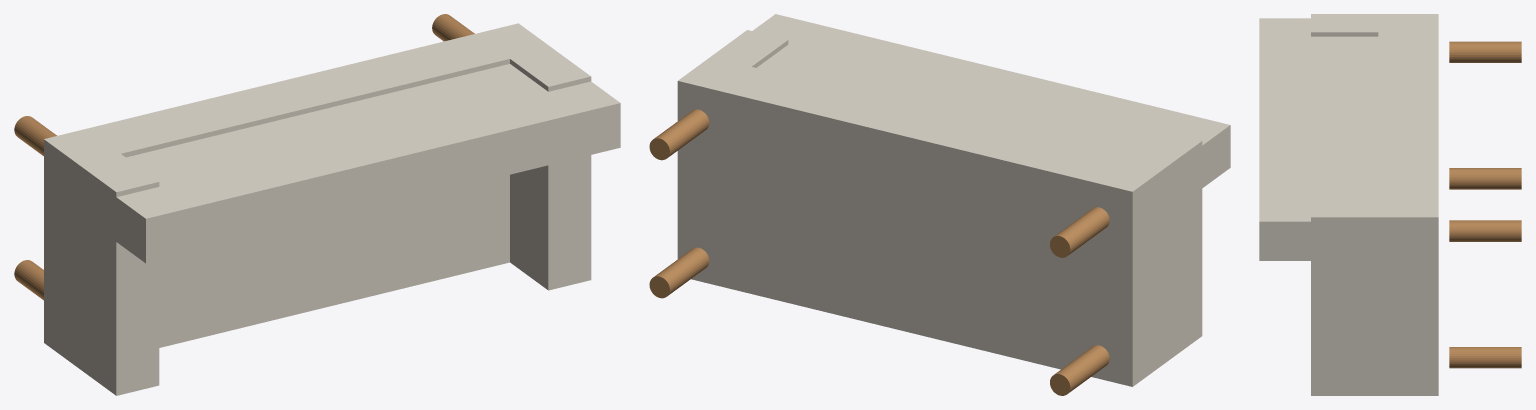
The model's file is divan.glb.
The picture shows the model from 3 angles, left to right: view 1: azimuth 30°, elevation 25°; view 2: azimuth 150°, elevation 25°; view 3: azimuth 270°, elevation 25°; orthographic projection. The views are drawn at different scales.
Visible parts, largest first — view 1: Seat, Back, ArmL, ArmR, world, Leg; view 2: Seat, Back, ArmL, world, ArmR, Leg; view 3: Back, Seat, ArmR, world, ArmL, Leg.
Part boxes in pixels (box(x1,y1,x2,y2)): Seat: box(44, 23, 552, 367); Back: box(61, 64, 620, 263); ArmL: box(54, 148, 159, 395); ArmR: box(488, 32, 591, 290); world: box(14, 116, 56, 300); Leg: box(432, 14, 474, 41); Seat: box(677, 57, 1165, 386); Back: box(752, 14, 1230, 226); ArmL: box(1104, 131, 1202, 378); world: box(649, 207, 1109, 395); ArmR: box(711, 30, 788, 77); Leg: box(649, 109, 709, 160); Back: box(1259, 18, 1404, 260); Seat: box(1378, 14, 1438, 395); ArmR: box(1311, 199, 1419, 395); world: box(1449, 41, 1521, 368); ArmL: box(1311, 14, 1415, 36); Leg: box(1449, 220, 1521, 241).
Bounding box in the file's own units: 2 × 0.82 × 1.09.
